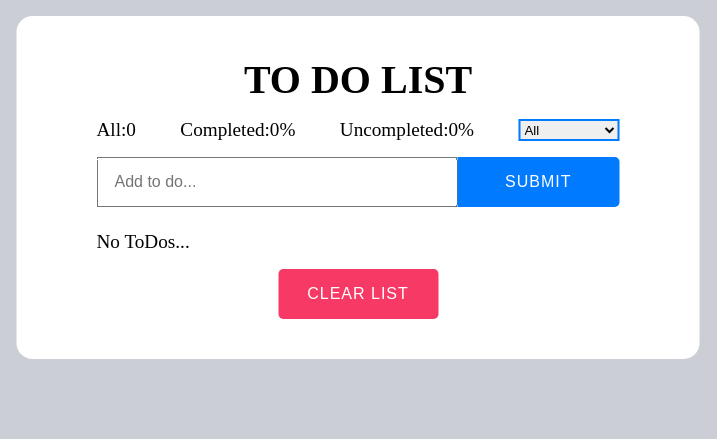
it: to-do list › checkbox click marks to-do as completed on the first click and undoes on the second click
This screenshot has width=717, height=439.
Type "to-do item 1" into the field with placeholder "Add to do...". click: (277, 182)
box: [96,157,457,207]
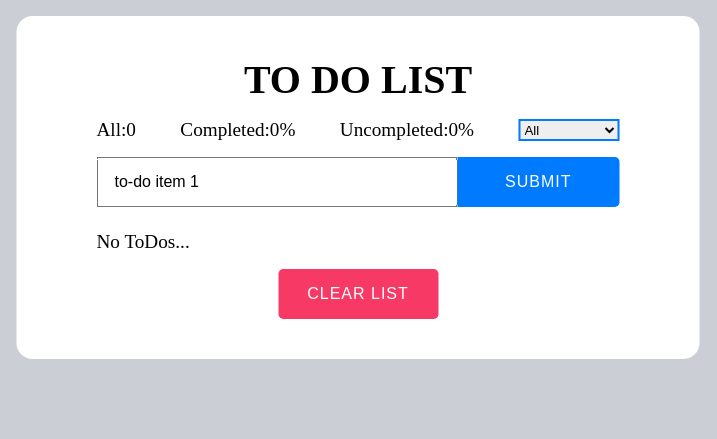
Click the button "submit". click: (538, 182)
box: [457,157,620,207]
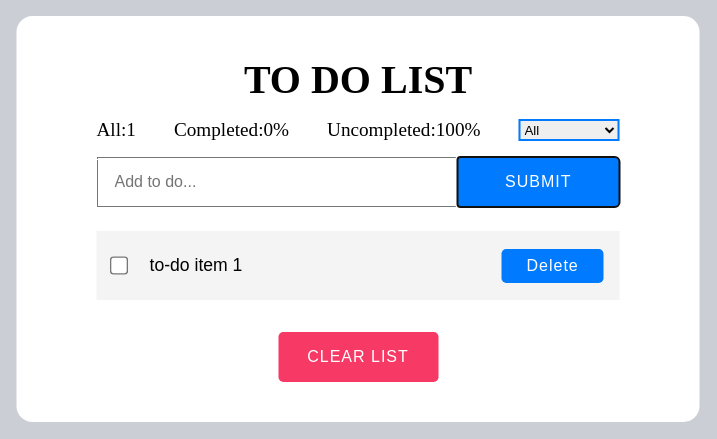
Now the checkbox is not checked
Click the checkbox. click: (119, 266)
box: [110,256,128,275]
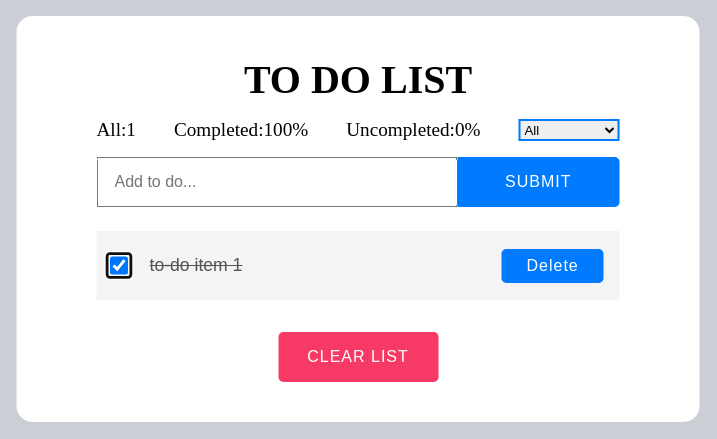
Now the checkbox is checked
Now the field showing "to-do item 1" is disabled, box [134,247,502,284]
Click the checkbox. click: (119, 266)
box: [110,256,128,275]
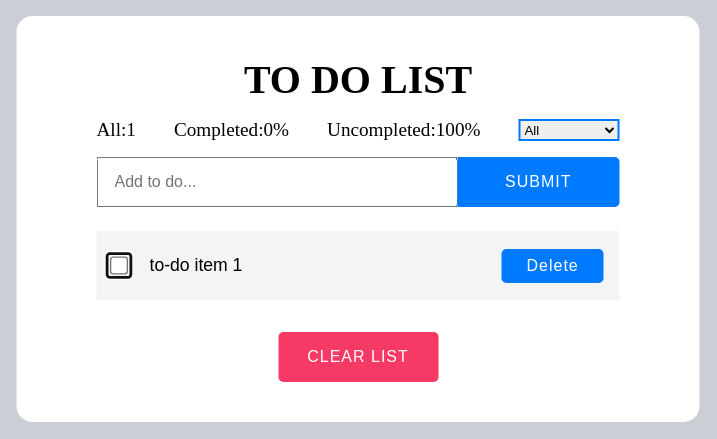
Now the checkbox is not checked, box [110,256,128,275]
Now the field showing "to-do item 1" is enabled, box [134,247,502,284]
